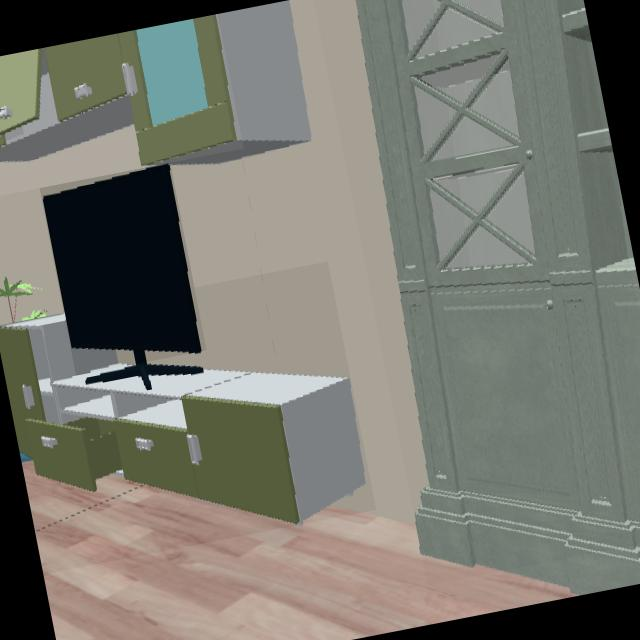bookshelf: (352, 0, 640, 571)
cabinet: (0, 315, 367, 526), (0, 14, 238, 168)
monitor: (43, 165, 201, 359)
